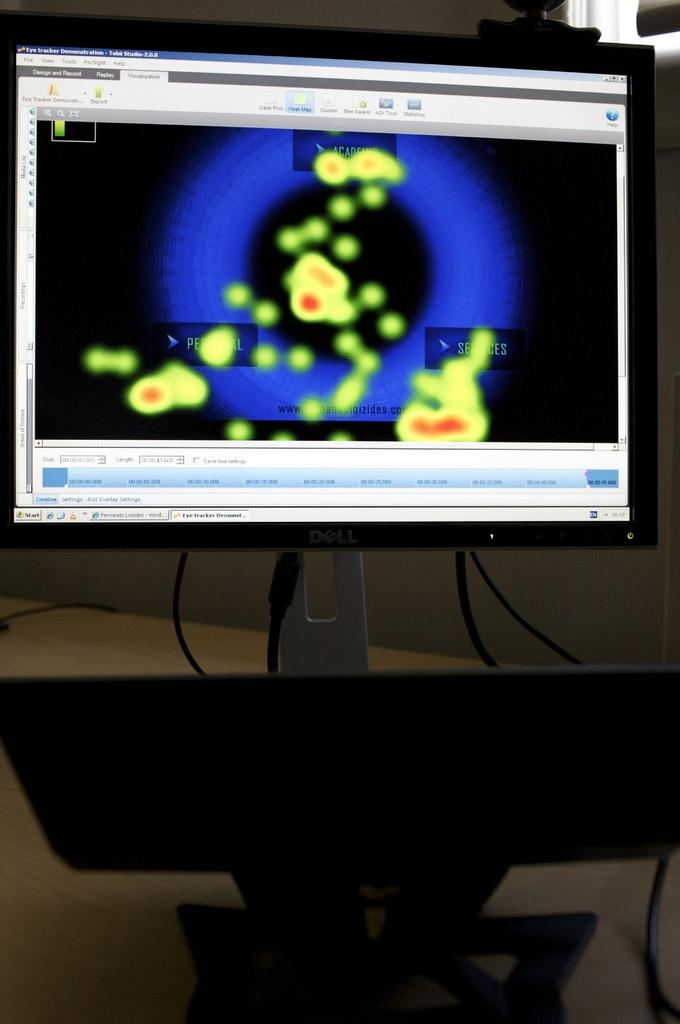Chair: (0, 667, 679, 1022)
